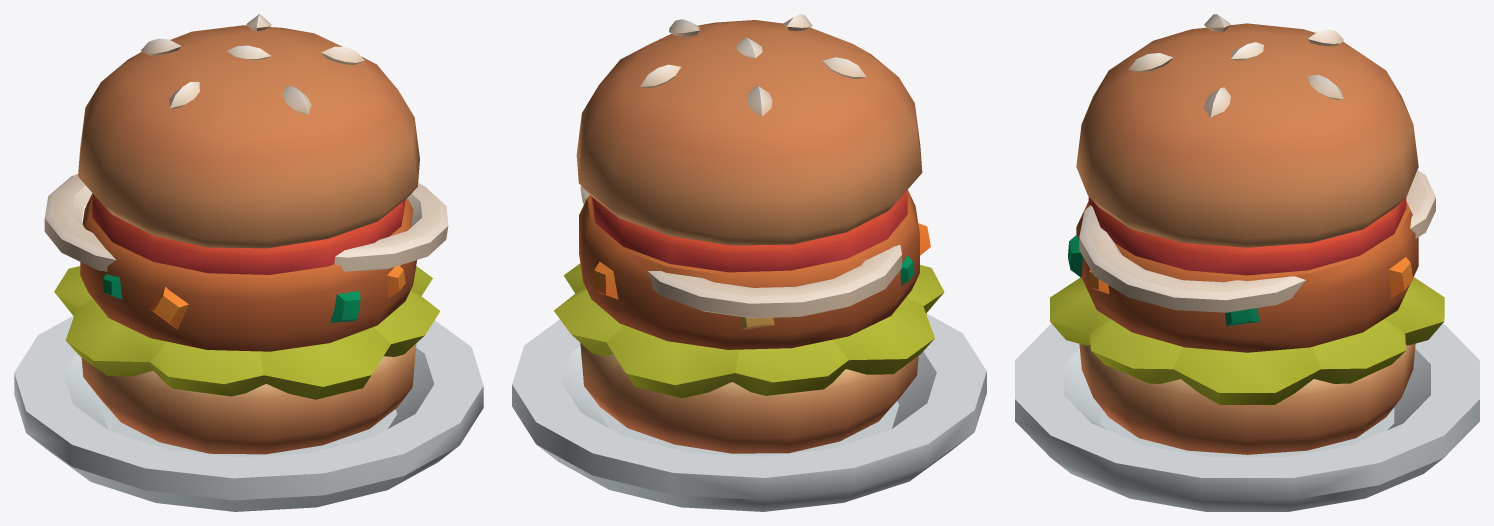
File: Vegetable burger.glb
The picture shows the model from 3 angles, left to right: view 1: azimuth 30°, elevation 25°; view 2: azimuth 150°, elevation 25°; view 3: azimuth 270°, elevation 25°; orthographic projection.
Visible parts, largest first — view 1: food_vegetableburger; view 2: food_vegetableburger; view 3: food_vegetableburger.
Boxes of the visible parts, x1,y1,x2,y2 form: food_vegetableburger: (14, 14, 483, 511); food_vegetableburger: (512, 14, 986, 511); food_vegetableburger: (1015, 14, 1479, 511).
Size of the model in its own units: 0.95 by 0.8572 by 0.95.
1 material, 1 textured.
